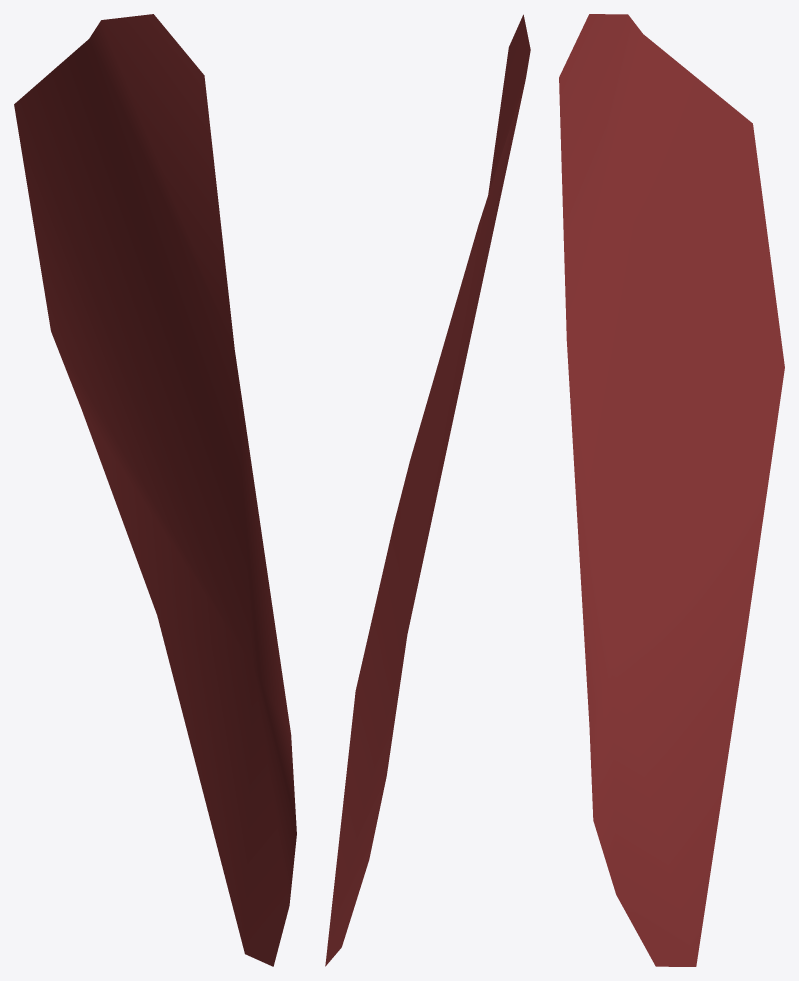
Rendered from gracilis-muscle-el.glb.
3 renders of one model, left to right at view 1: azimuth 30°, elevation 25°; view 2: azimuth 150°, elevation 25°; view 3: azimuth 270°, elevation 25°, orthographic. The views are drawn at different scales.
Visible parts, largest first — view 1: Gracilis muscle.el; view 2: Gracilis muscle.el; view 3: Gracilis muscle.el.
Boxes of the visible parts, x1,y1,x2,y2 form: Gracilis muscle.el: [14, 14, 296, 966]; Gracilis muscle.el: [325, 14, 530, 966]; Gracilis muscle.el: [559, 14, 784, 966].
Bounding box in the file's own units: 0.00962 × 0.0462 × 0.0107.
